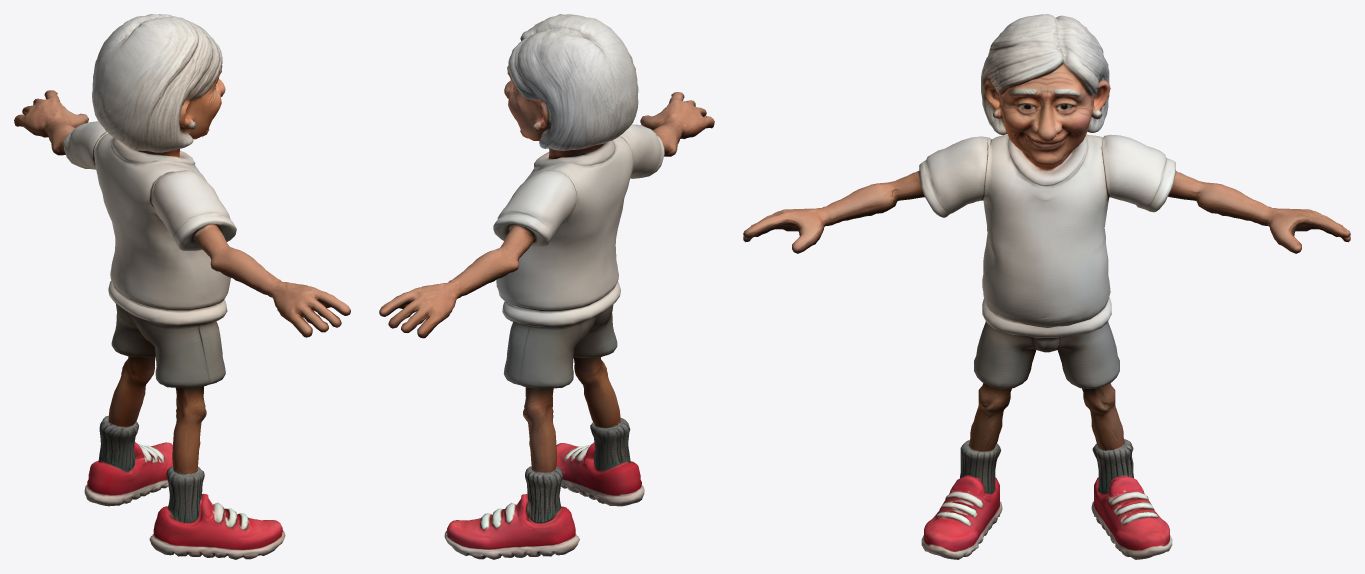
3 renders of one model, left to right at view 1: azimuth 30°, elevation 25°; view 2: azimuth 150°, elevation 25°; view 3: azimuth 270°, elevation 25°, orthographic.
Parts seen in each view (by area): view 1: tripo_node_556f6902; view 2: tripo_node_556f6902; view 3: tripo_node_556f6902.
Boxes of the visible parts, <box> form: tripo_node_556f6902: <box>14,14,350,559</box>; tripo_node_556f6902: <box>379,14,714,559</box>; tripo_node_556f6902: <box>743,14,1350,559</box>.
Bounding box in the file's own units: 0.2485 × 0.9237 × 1.
1 material, 1 textured.
